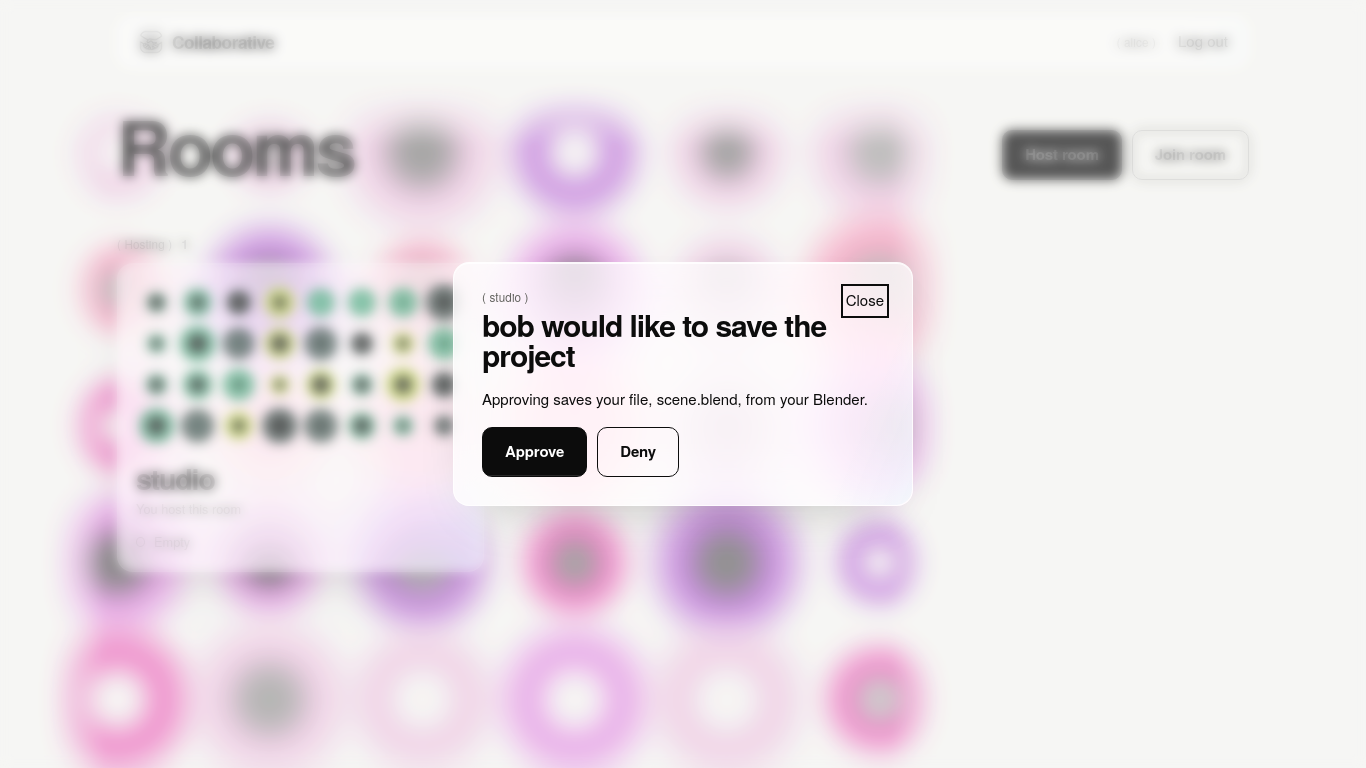
a save request › pops up for the host, and Approve tells the server
Click the button "Approve".
click(535, 452)  # box [482, 428, 587, 477]
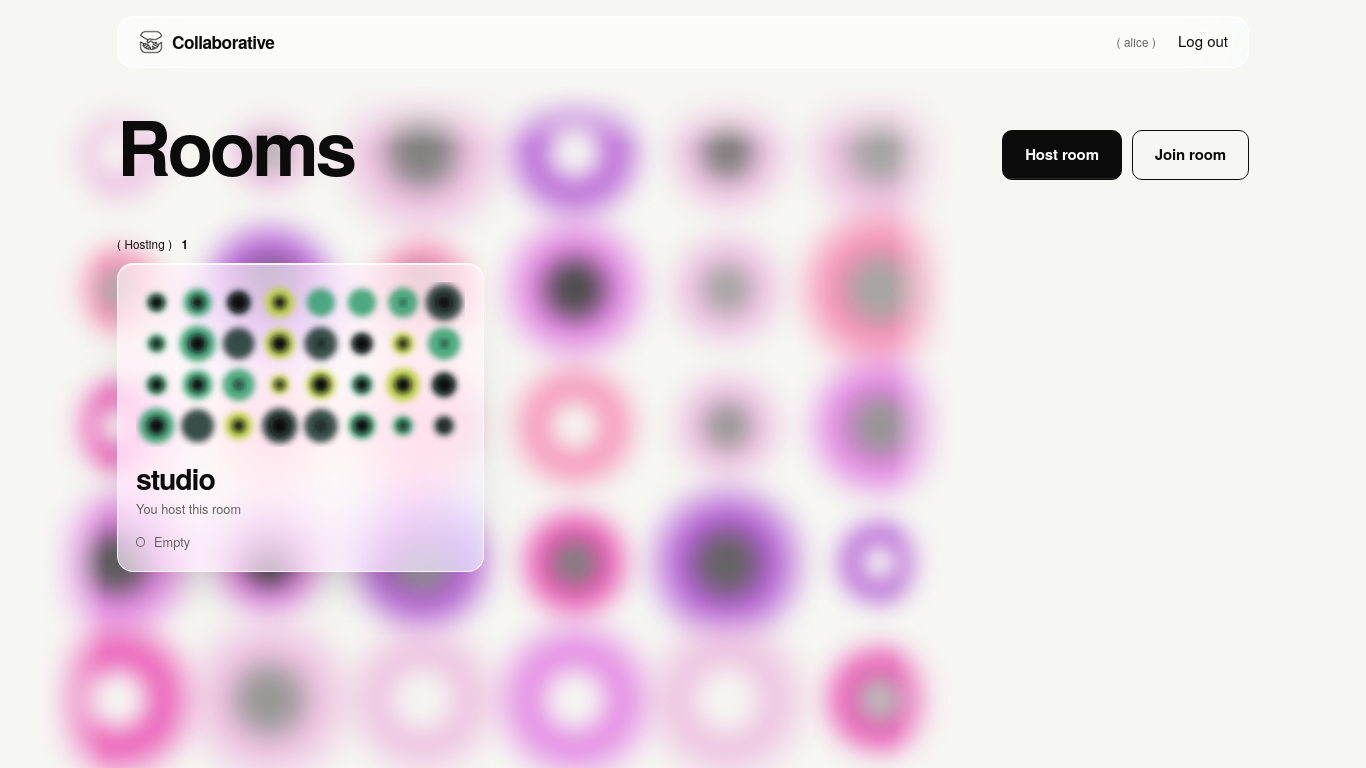
Expected: the dialog is gone
